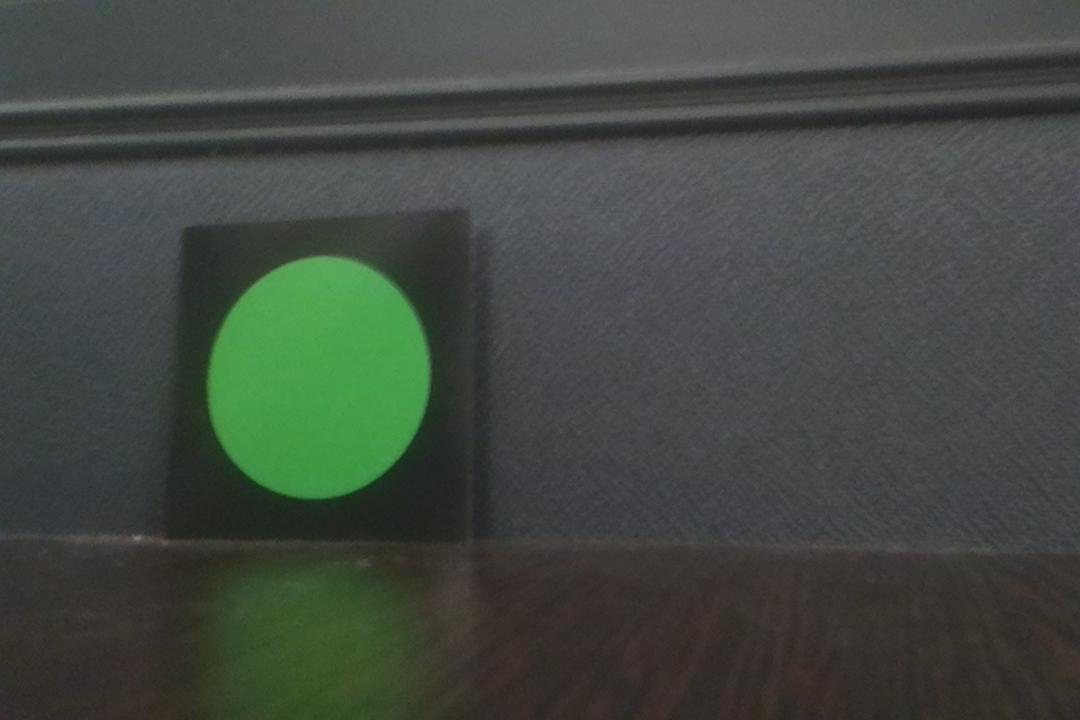go: (181, 226, 470, 535)
